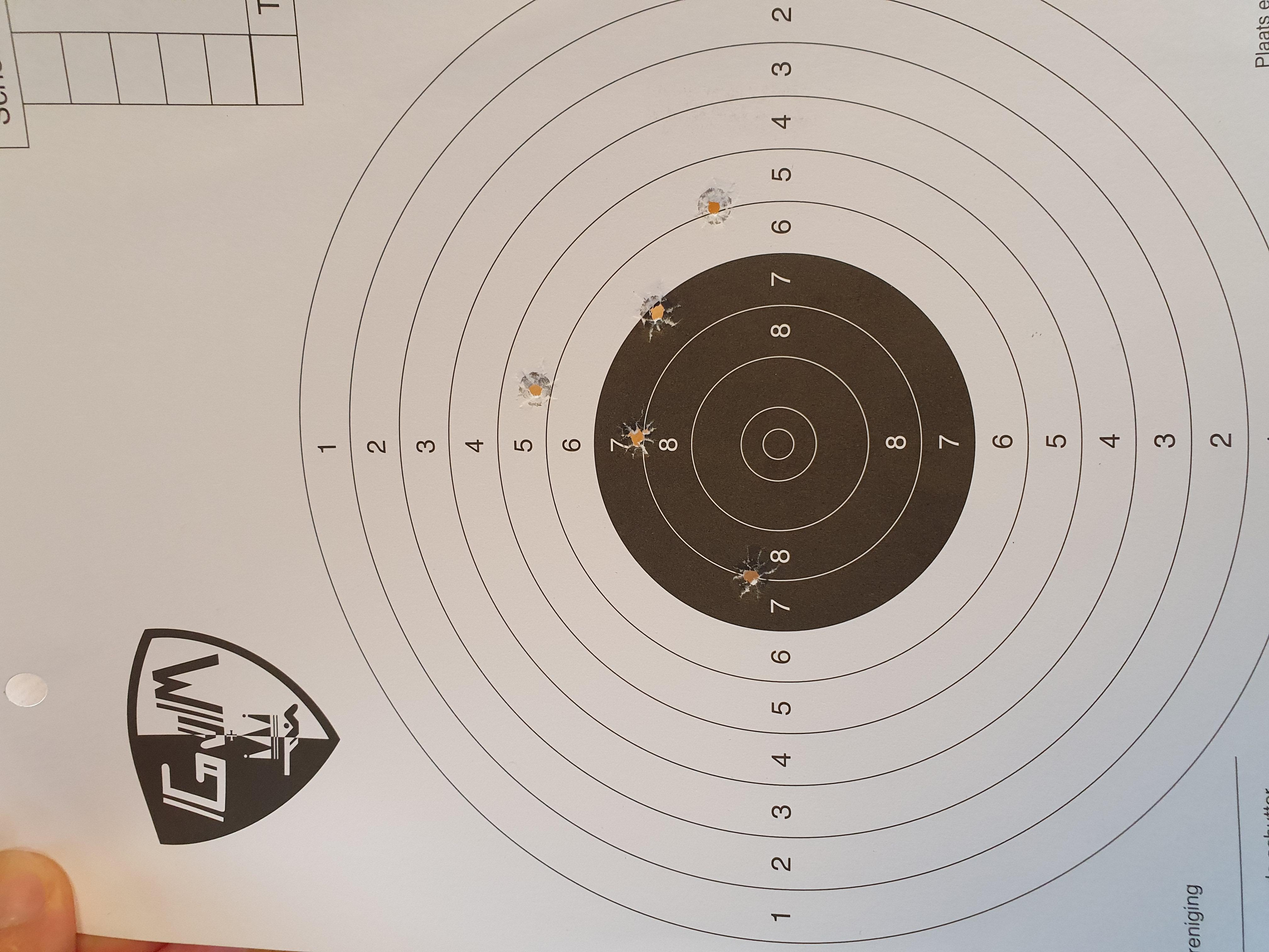hole: (962, 510, 1033, 551), (651, 461, 724, 497), (823, 470, 884, 512), (473, 544, 543, 580), (722, 383, 790, 420)
